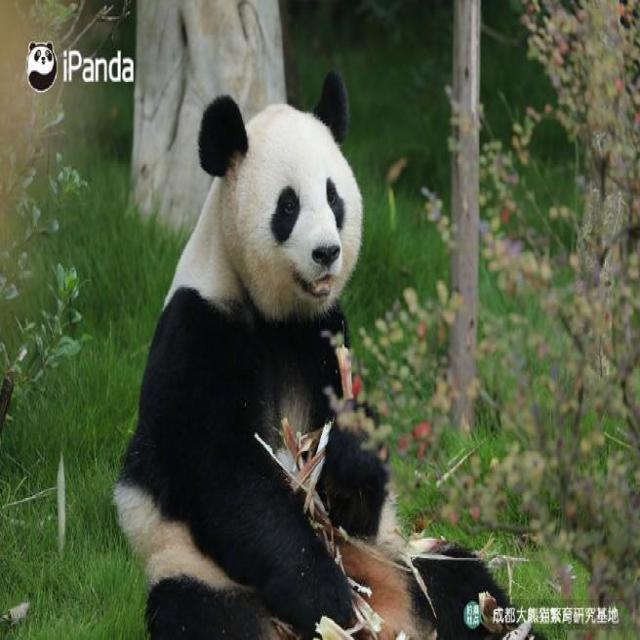panda: (105, 91, 553, 640)
